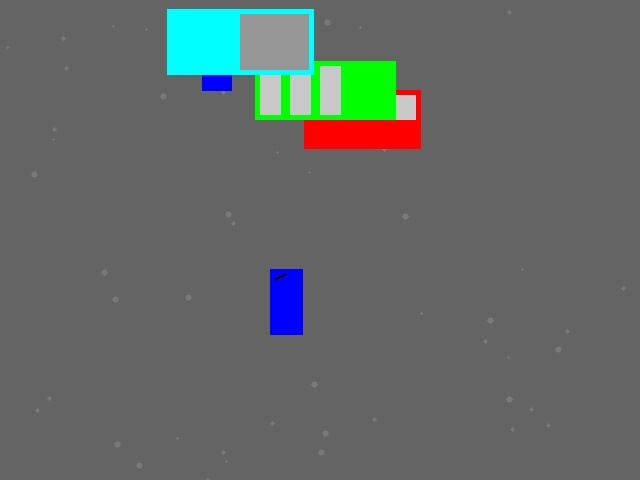bus: (255, 61, 395, 119)
car: (304, 90, 420, 148)
motorcycle: (270, 269, 302, 334), (202, 31, 231, 90)
truck: (167, 9, 313, 74)
